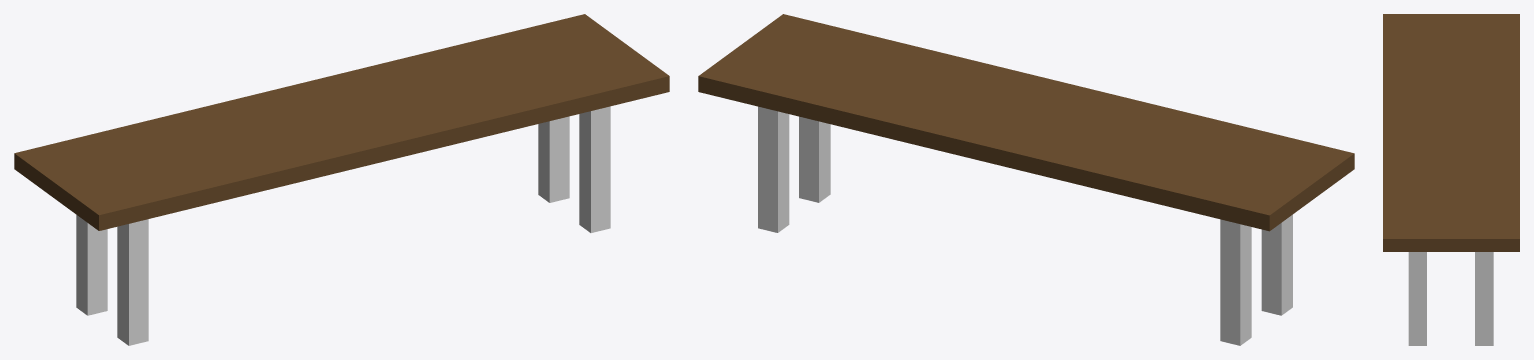
The model's file is Kursi.fbx.
The picture shows the model from 3 angles, left to right: view 1: azimuth 30°, elevation 25°; view 2: azimuth 150°, elevation 25°; view 3: azimuth 270°, elevation 25°; orthographic projection. The views are drawn at different scales.
Visible parts, largest first — view 1: Cube.018; view 2: Cube.018; view 3: Cube.018.
Part boxes in pixels (x1,y1,x2,y2): Cube.018: [14, 14, 669, 345]; Cube.018: [698, 14, 1354, 345]; Cube.018: [1383, 14, 1519, 345].
Size of the model in its own units: 741 by 190 by 191.
